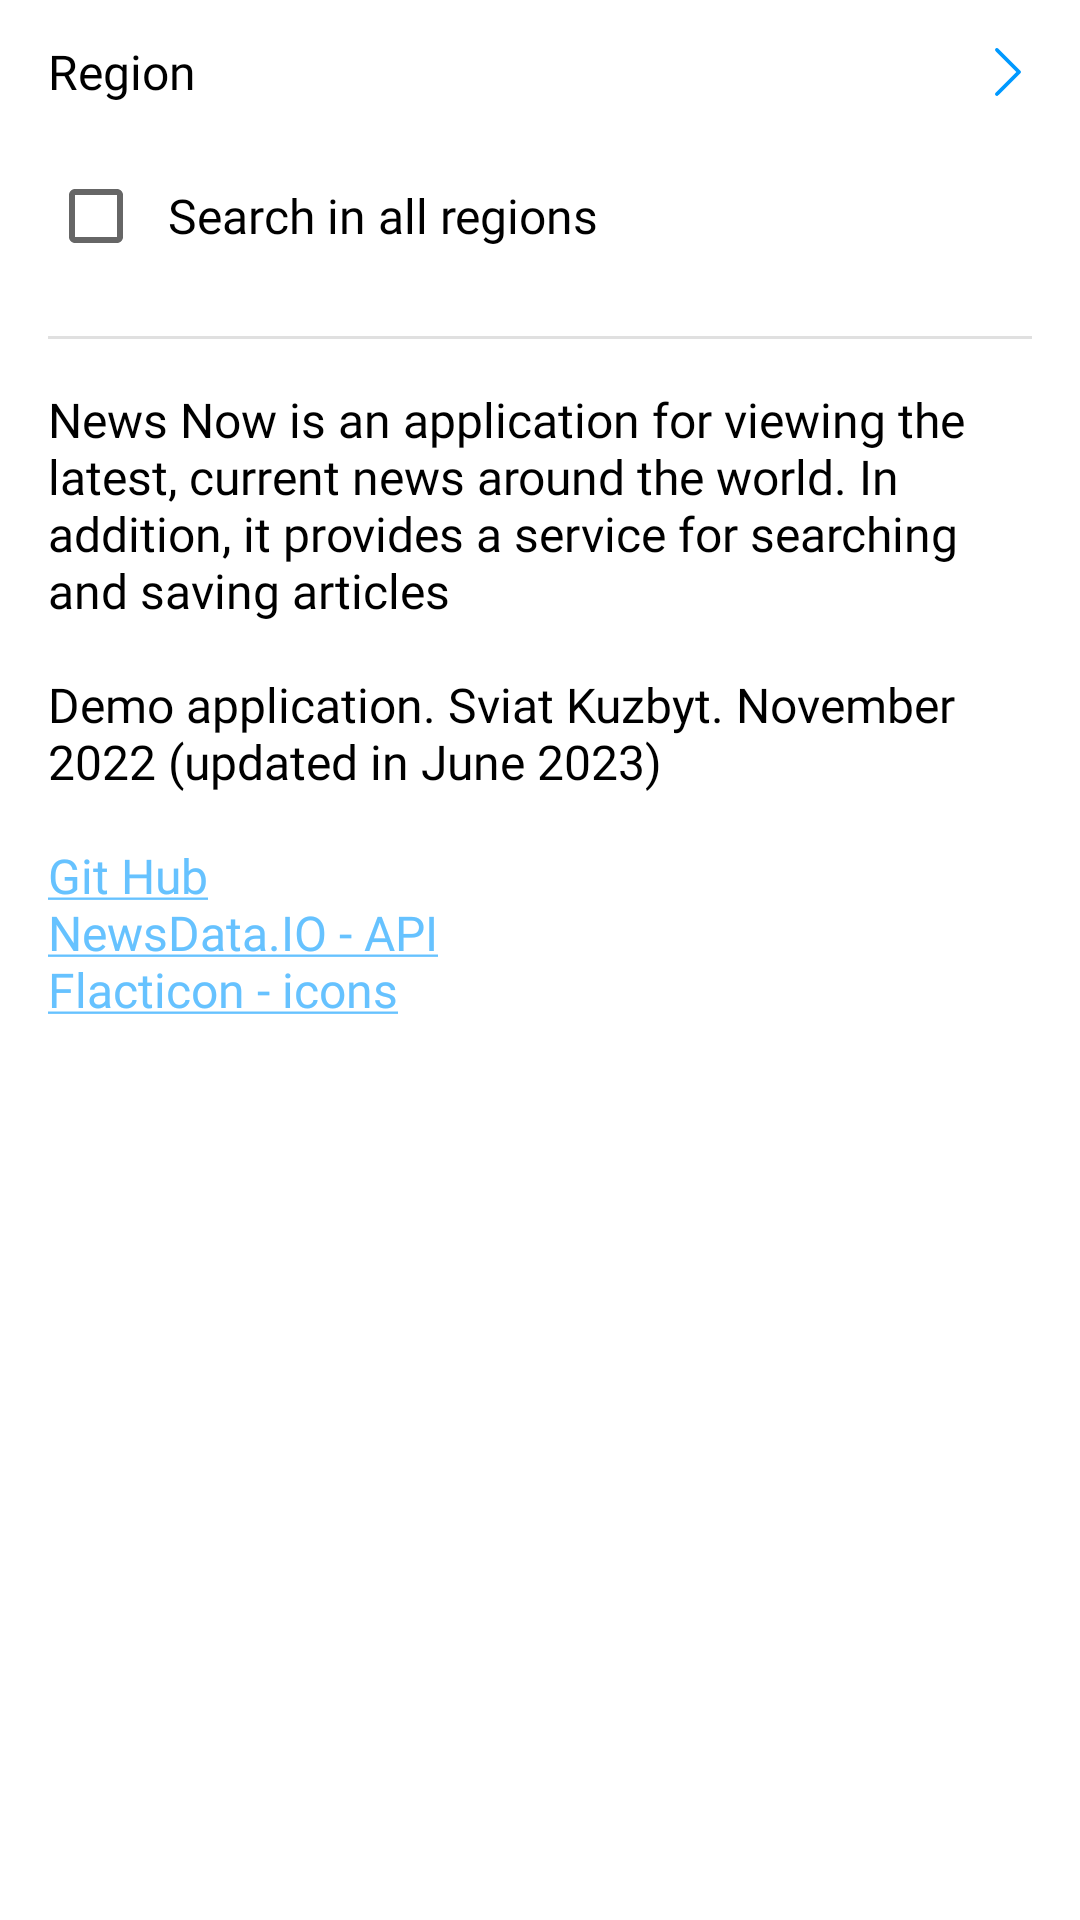

Screen size 1080px×1920px. Icon name, then its center in pixels as point (x, y):
next: point (1008, 72)
